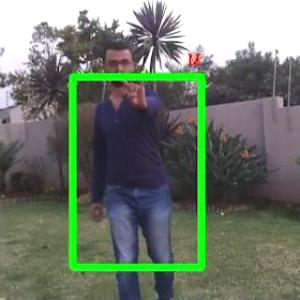takeoff-hand: (116, 58, 153, 113)
